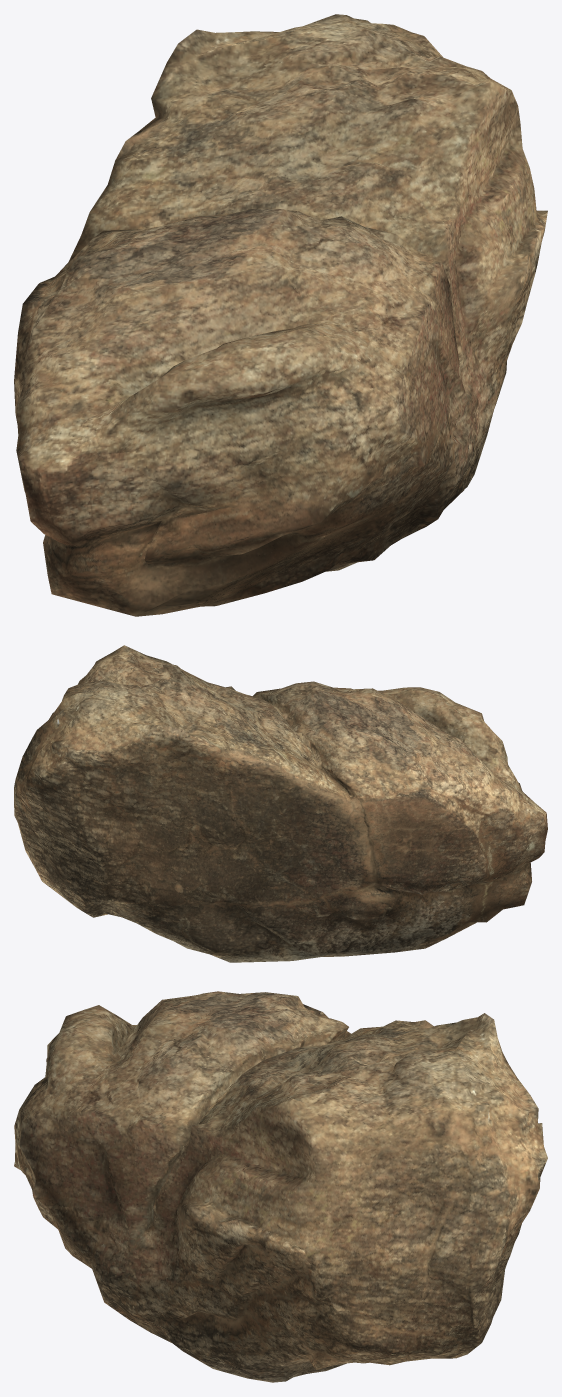
Rendered from mm6_deco_rock02.glb.
The picture shows the model from 3 angles, top to bottom: view 1: azimuth 30°, elevation 25°; view 2: azimuth 150°, elevation 25°; view 3: azimuth 270°, elevation 25°; orthographic projection. The views are drawn at different scales.
Parts seen in each view (by area): view 1: Rock02; view 2: Rock02; view 3: Rock02.
Part boxes in pixels (bbox=[...]): Rock02: bbox=[14, 14, 547, 616]; Rock02: bbox=[14, 645, 547, 962]; Rock02: bbox=[14, 991, 547, 1382].
Size of the model in its own units: 2.25 by 1.4 by 1.98.
1 material, 1 textured.
